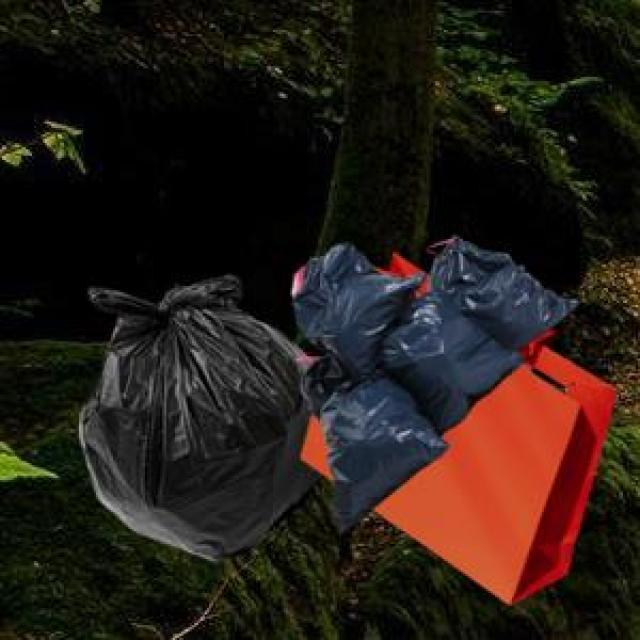miscellaneous trash: (290, 233, 574, 529), (75, 271, 320, 557)
paper: (297, 250, 612, 600)
